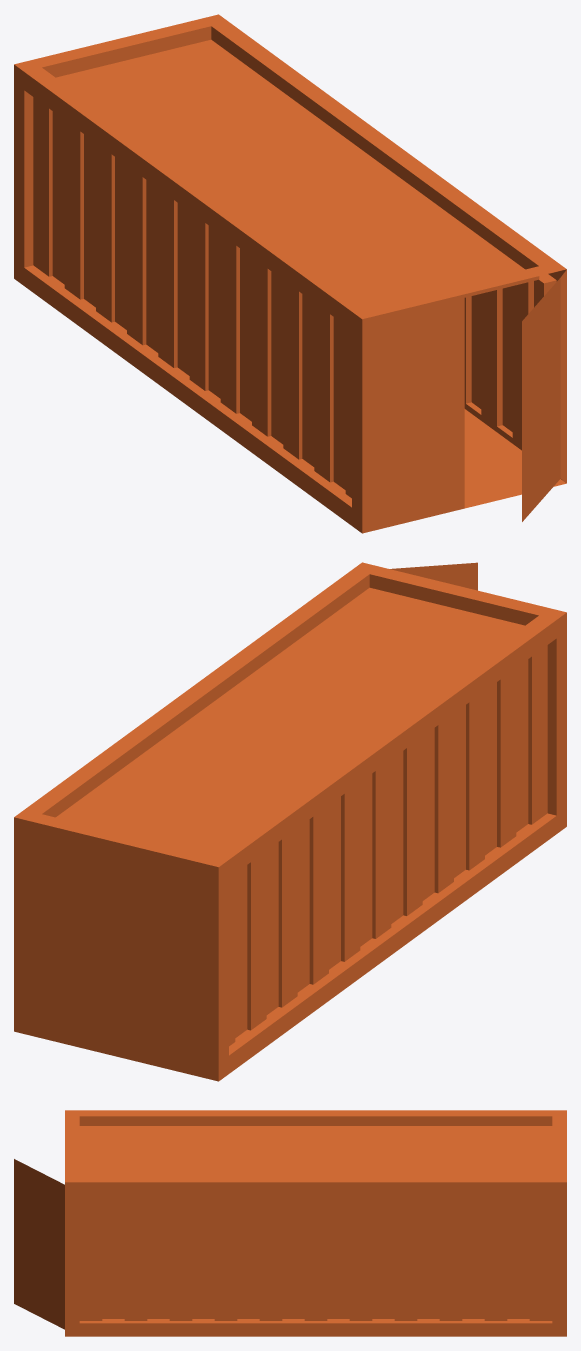
File: Opened Container.fbx
3 renders of one model, top to bottom at view 1: azimuth 30°, elevation 25°; view 2: azimuth 150°, elevation 25°; view 3: azimuth 270°, elevation 25°, orthographic. The views are drawn at different scales.
Visible parts, largest first — view 1: container open; view 2: container open; view 3: container open.
Part boxes in pixels (x1,y1,x2,y2): container open: (14,14,566,533); container open: (14,562,566,1081); container open: (14,1110,566,1336).
Bounding box in the file's own units: 1104 × 1104 × 3583.
